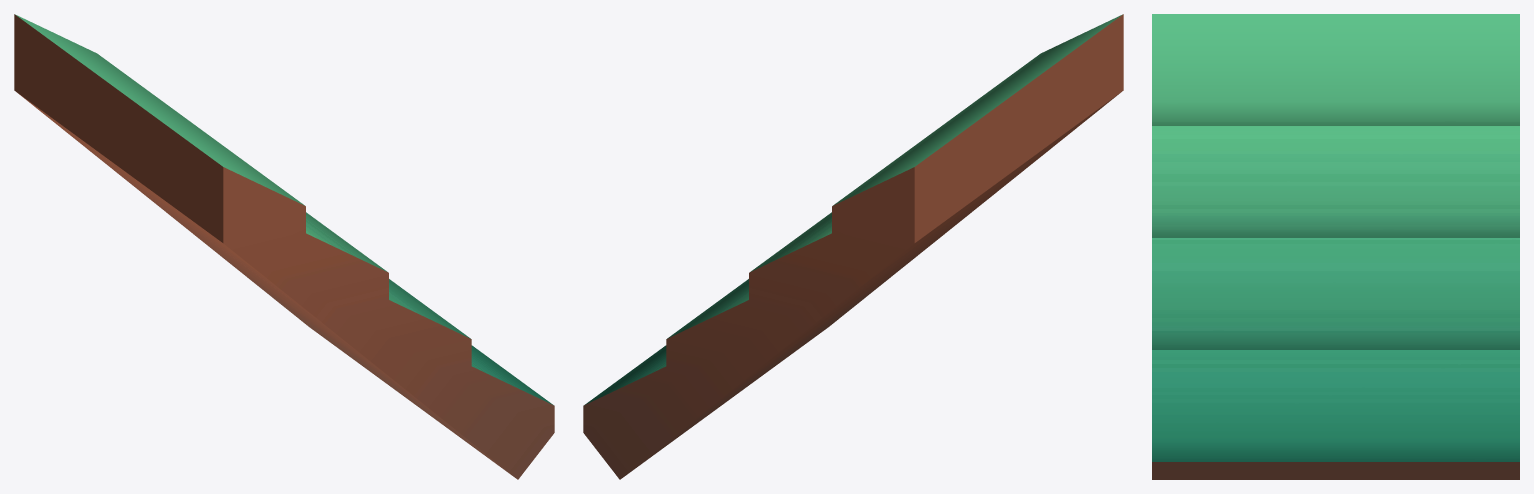
File: cabin-roof.glb
3 views of the same model, side by side, from view 1: azimuth 30°, elevation 25°; view 2: azimuth 150°, elevation 25°; view 3: azimuth 270°, elevation 25° (orthographic). The views are drawn at different scales.
Parts seen in each view (by area): view 1: cabin-roof; view 2: cabin-roof; view 3: cabin-roof.
Part boxes in pixels (x1=…): cabin-roof: x1=14, y1=14, x2=554, y2=479; cabin-roof: x1=583, y1=14, x2=1123, y2=479; cabin-roof: x1=1152, y1=14, x2=1519, y2=479.
Size of the model in its own units: 1.28 by 1.42 by 1.4.
1 material, 1 textured.
